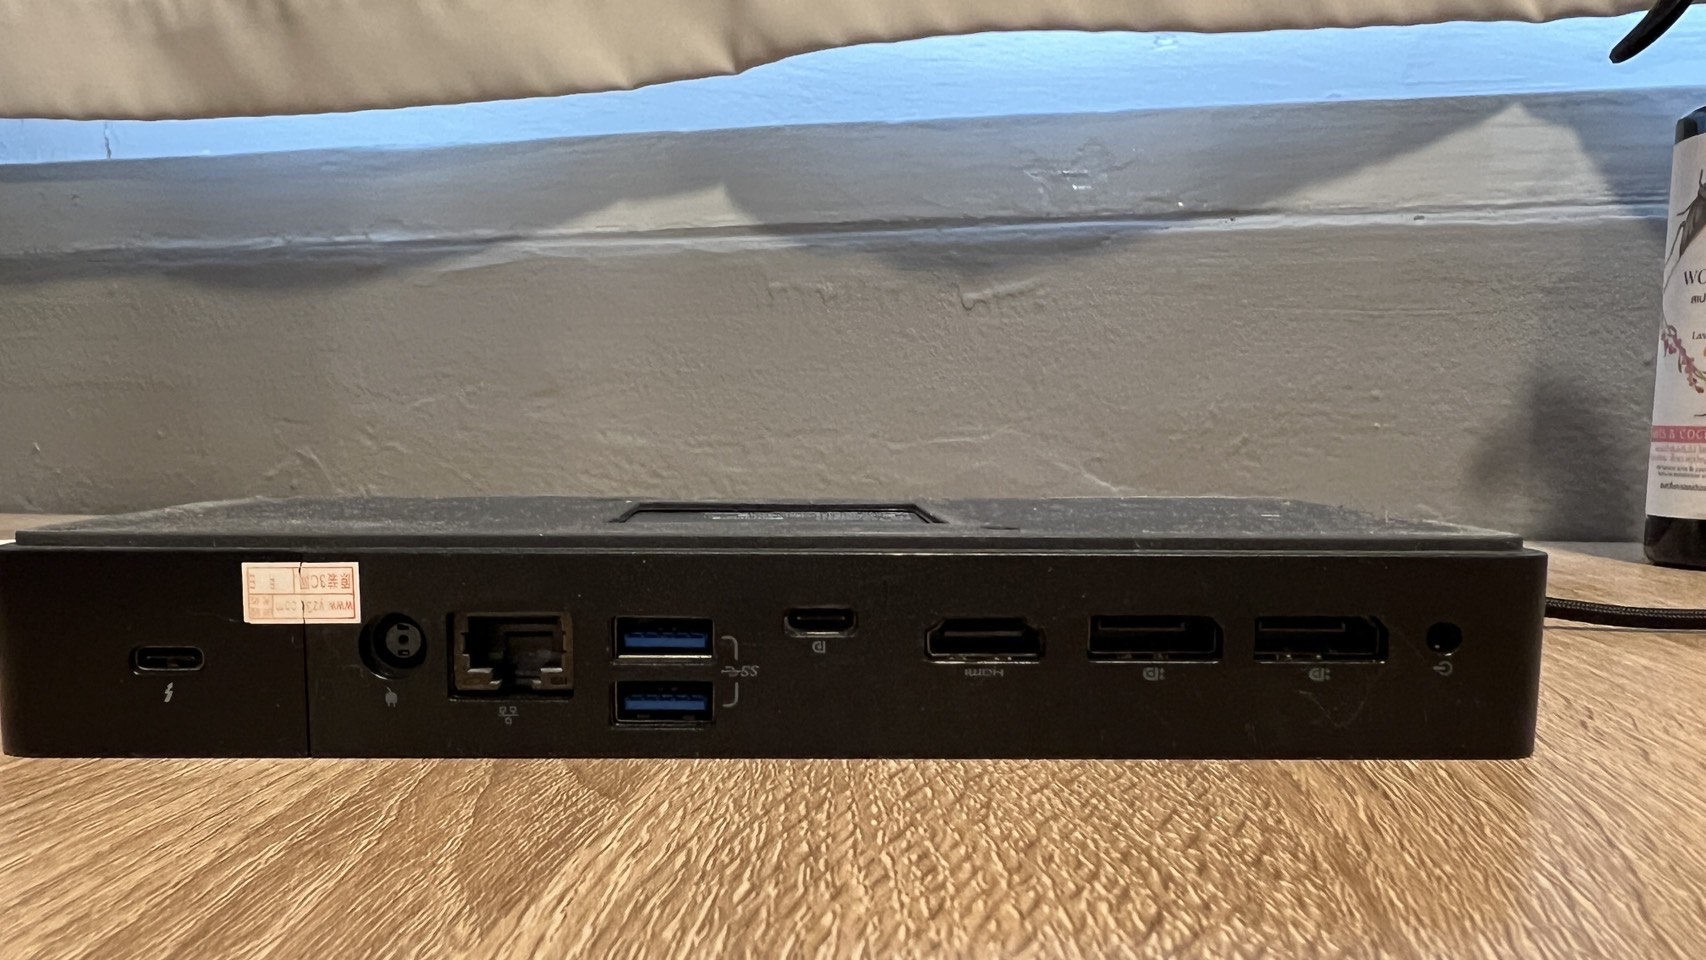front: (2, 549, 1548, 753)
top: (15, 497, 1524, 537)
